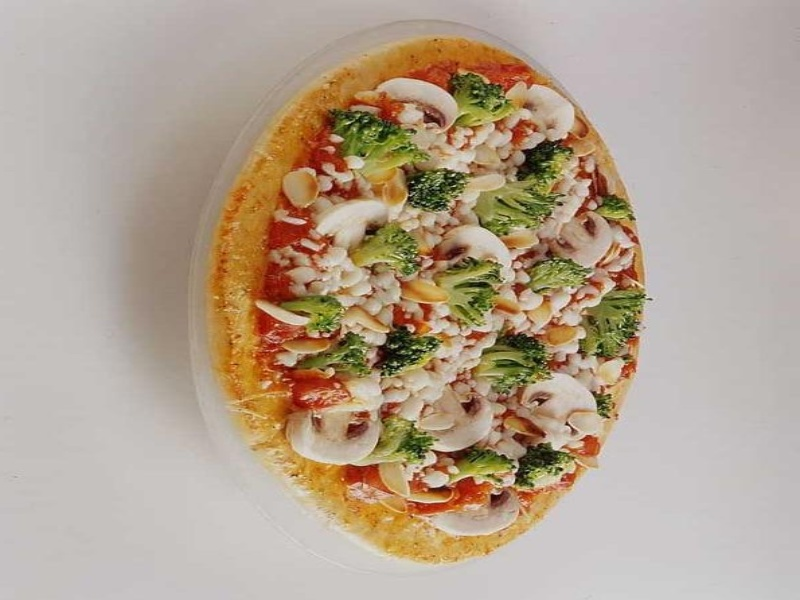champignon: (281, 399, 384, 470), (413, 382, 502, 463), (516, 370, 604, 445), (498, 78, 583, 144), (373, 72, 462, 133), (542, 209, 624, 273), (314, 196, 393, 254)
